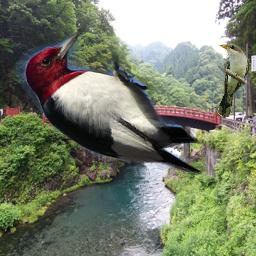Cuckoo: (217, 44, 249, 117)
Woodpecker: (15, 25, 214, 176)
